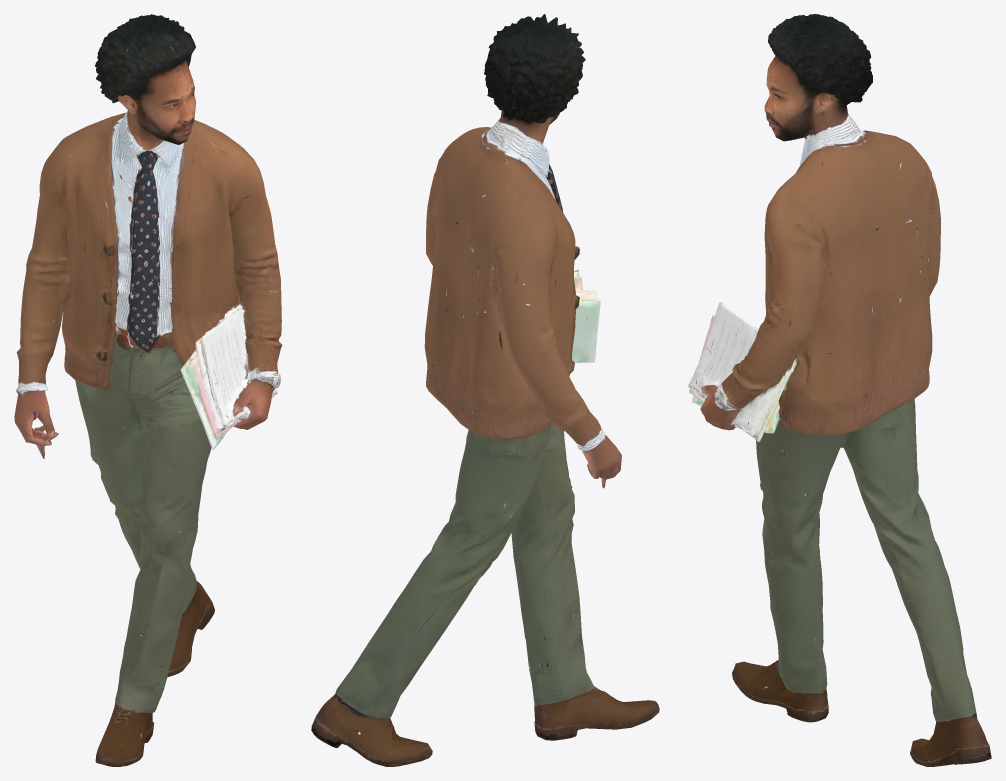
The model's file is teacher.glb.
3 views of the same model, side by side, from view 1: azimuth 30°, elevation 25°; view 2: azimuth 150°, elevation 25°; view 3: azimuth 270°, elevation 25° (orthographic).
Parts seen in each view (by area): view 1: mesh_0; view 2: mesh_0; view 3: mesh_0.
Boxes of the visible parts, x1,y1,x2,y2 form: mesh_0: [14, 14, 282, 766]; mesh_0: [311, 14, 659, 766]; mesh_0: [688, 14, 991, 766].
Size of the model in its own units: 0.6985 by 1.9 by 0.7397.
Materials: 1 (1 with a texture image).
